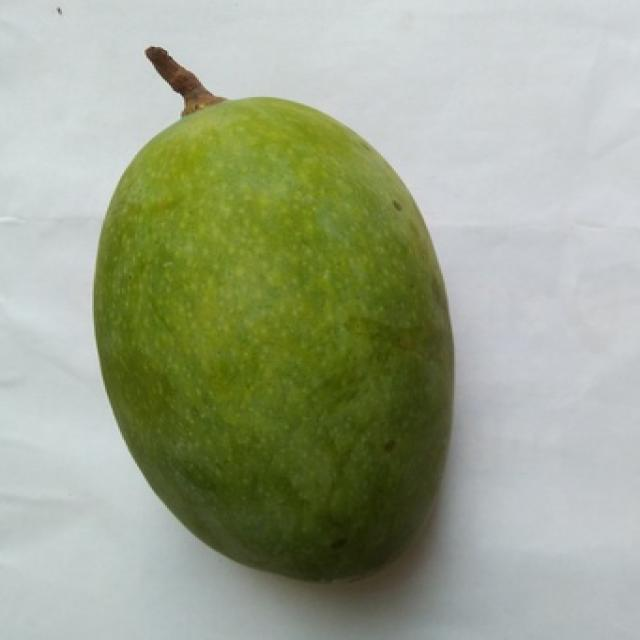Mango: (94, 49, 452, 579)
